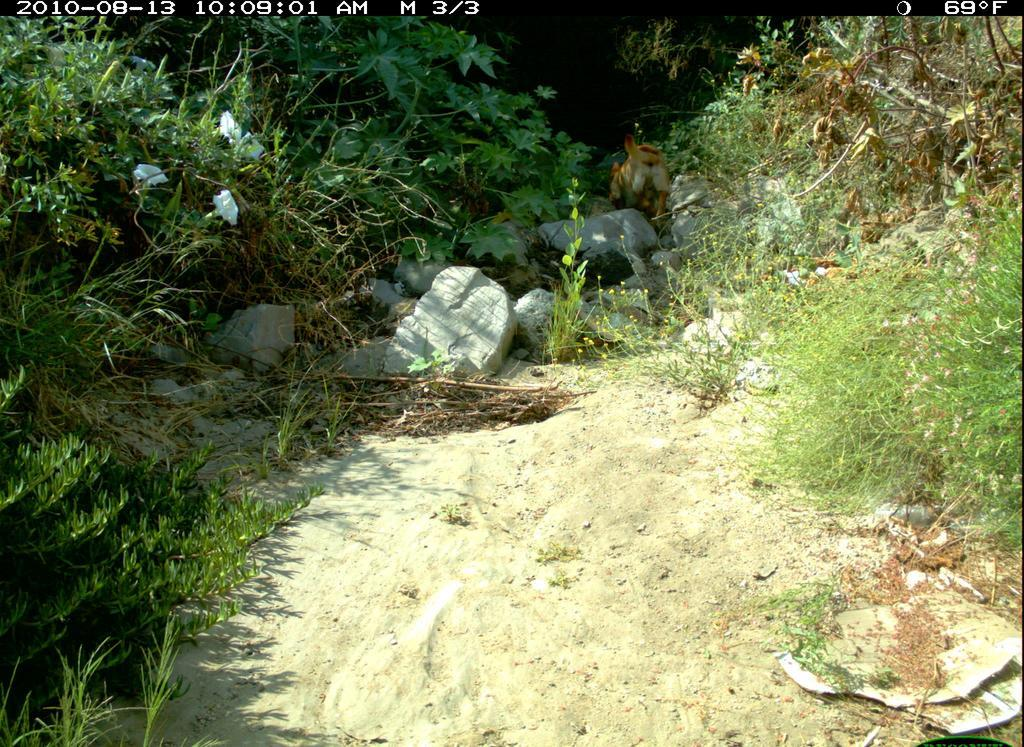dog: (575, 121, 688, 241)
